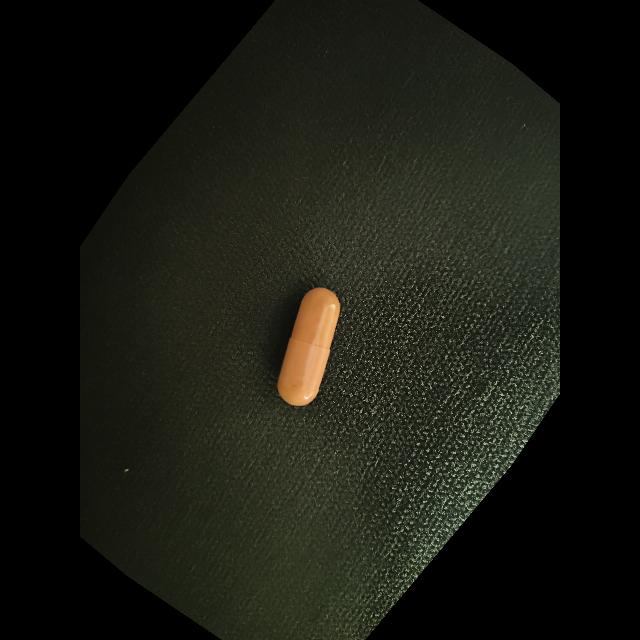Intact Capsule: (277, 287, 340, 406)
